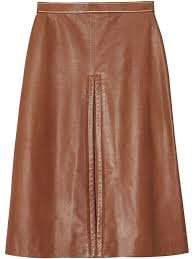C_skirt: (6, 2, 189, 259)
